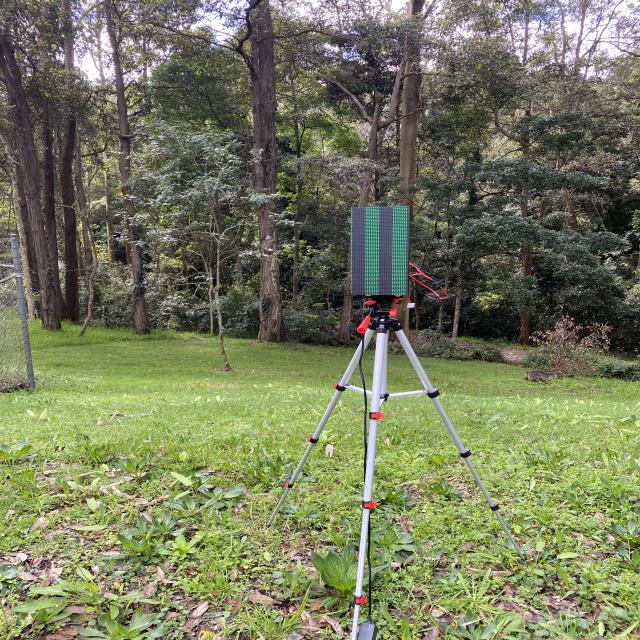matrix: (343, 200, 418, 297)
